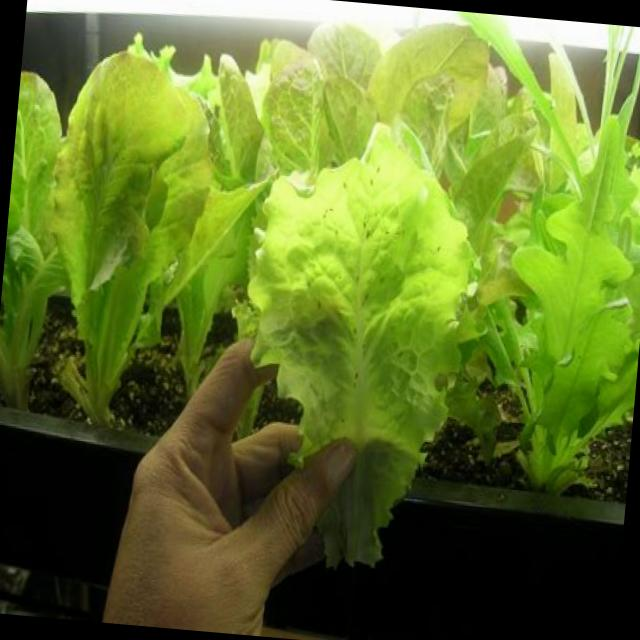Lettuce-Ready-to-Harvest: (236, 118, 484, 446)
